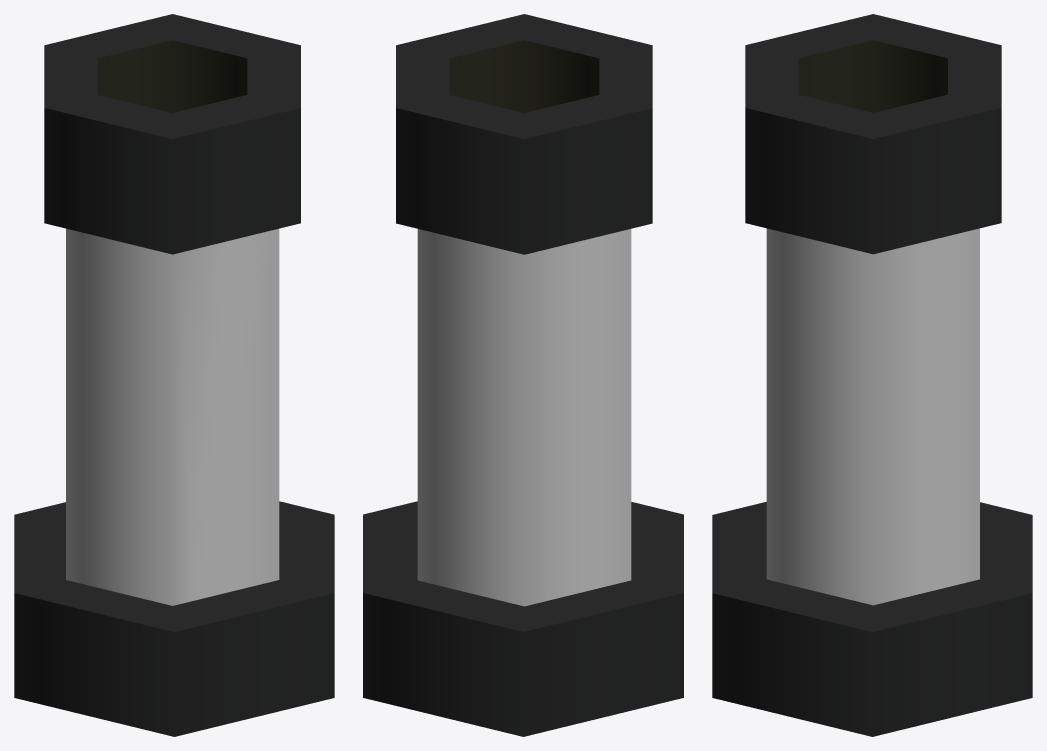
The model's file is drainage pipe.FBX.
The picture shows the model from 3 angles, left to right: view 1: azimuth 30°, elevation 25°; view 2: azimuth 150°, elevation 25°; view 3: azimuth 270°, elevation 25°; orthographic projection.
Parts seen in each view (by area): view 1: drainage pipe; view 2: drainage pipe; view 3: drainage pipe.
Part boxes in pixels (box(x1,y1,x2,y2)): drainage pipe: box(14, 14, 334, 736); drainage pipe: box(363, 14, 683, 736); drainage pipe: box(712, 14, 1032, 736).
Size of the model in its own units: 2.24 by 3.89 by 1.94.
